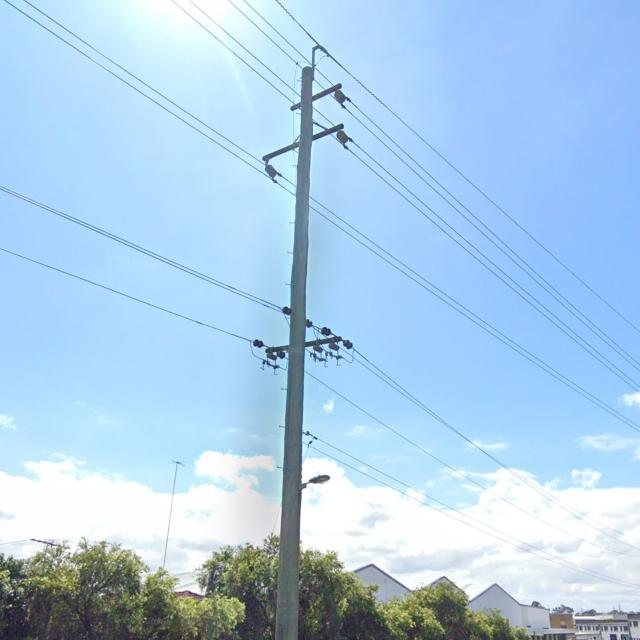HV-transmission: (253, 65, 351, 364)
crossarm: (263, 122, 344, 162), (292, 80, 343, 112), (266, 335, 342, 349)
timber-pole: (277, 66, 315, 632)
